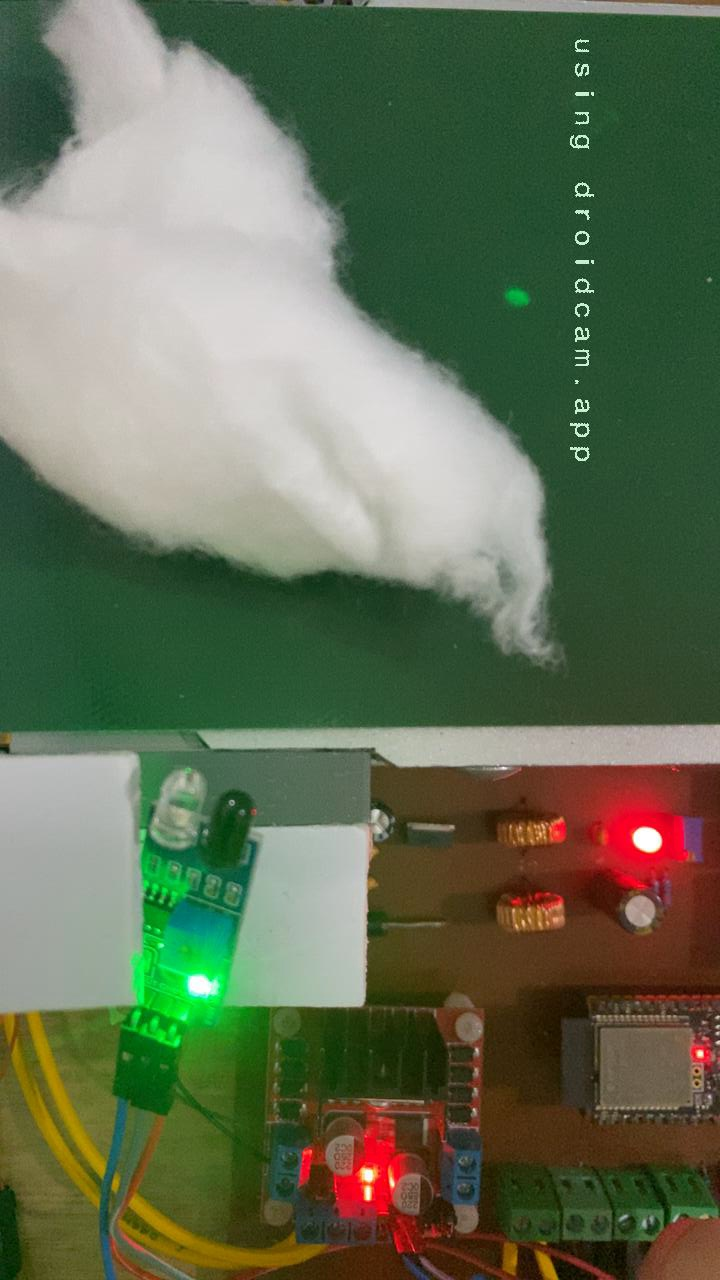cotton: (0, 6, 559, 665)
